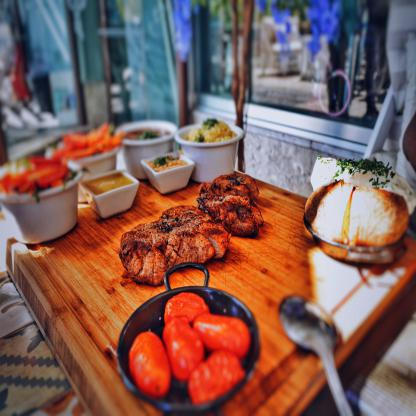Carne: (124, 197, 228, 289), (197, 164, 265, 242)
